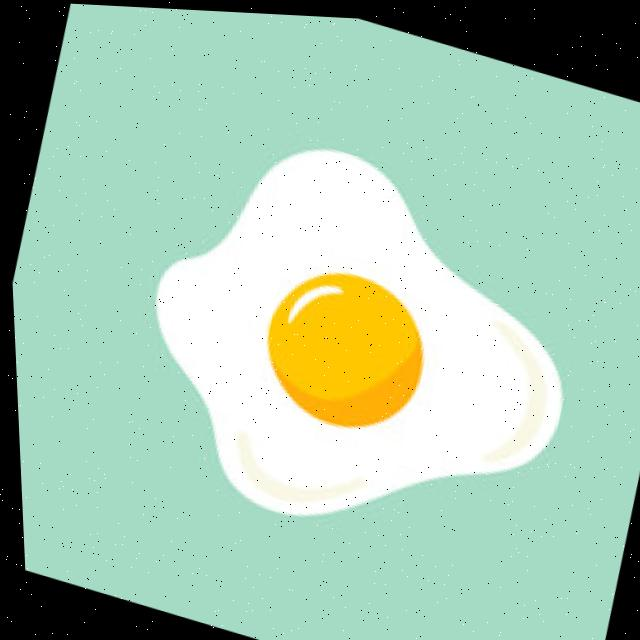Egg: (153, 148, 557, 510)
